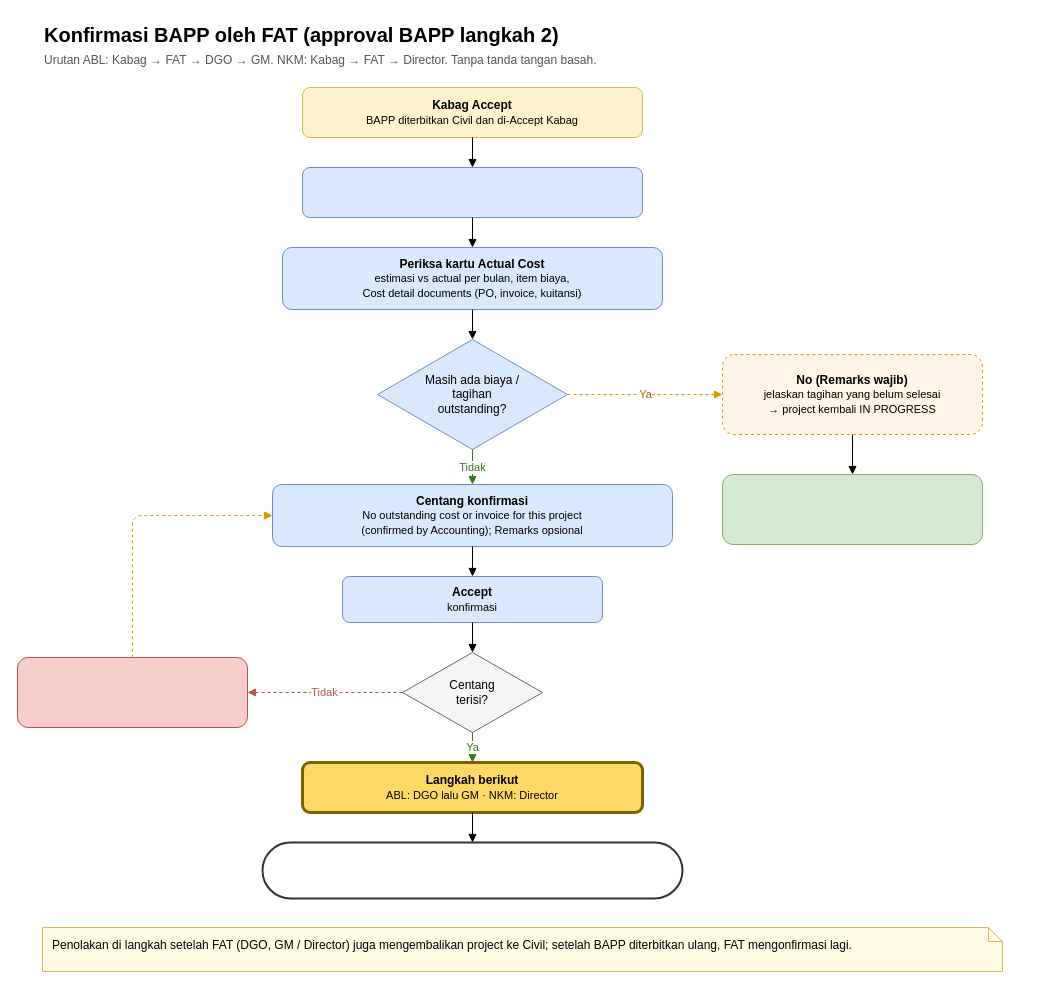
The diagram is 1060 pixels wide and 989 high, and some of its shapes have lost their labels. Here are the shapes that lost their labels. From the top down, the box of each, then its label:
(302, 166, 642, 218): My Tasks: BAPP klik Review → halaman detail project
(722, 474, 982, 544): Civil menindaklanjuti lalu menerbitkan BAPP ulang; review mulai lagi dari Kabag
(16, 656, 248, 728): Error Please confirm that there is no outstanding cost or invoice
(261, 841, 683, 899): CLOSED Berita Acara: tanda tangan digital FAT di bagian F dan kolom Accounting
